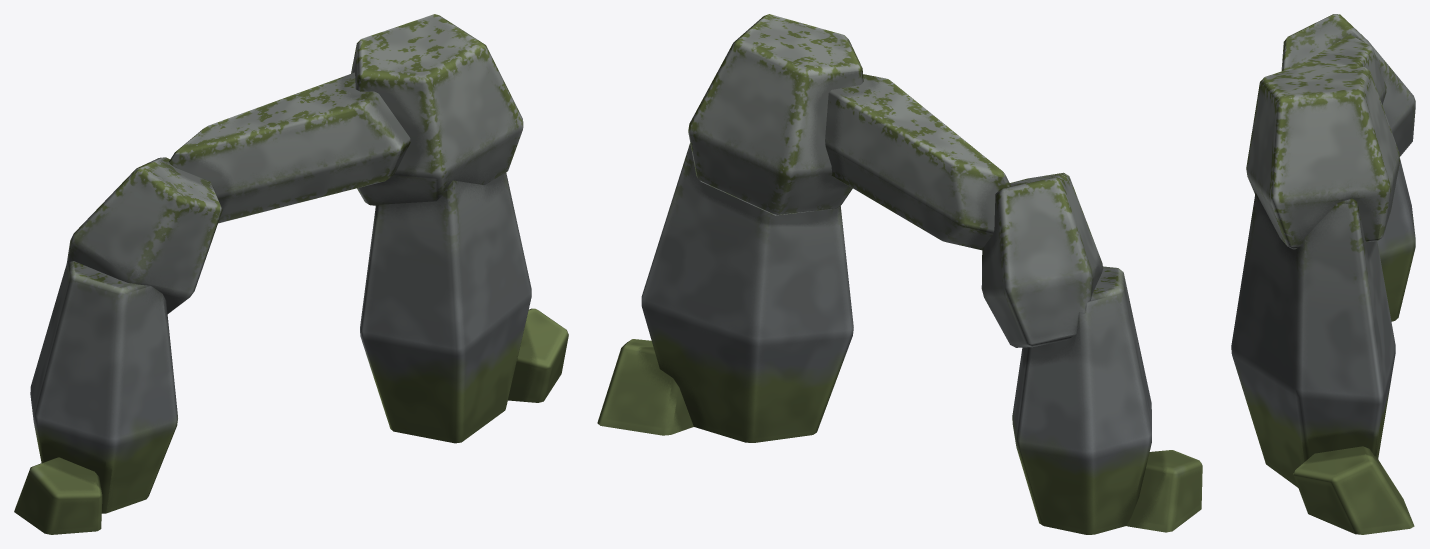
Rendered from arch_3_mossy.glb.
3 views of the same model, side by side, from view 1: azimuth 30°, elevation 25°; view 2: azimuth 150°, elevation 25°; view 3: azimuth 270°, elevation 25° (orthographic).
Parts seen in each view (by area): view 1: arch_3_mossy; view 2: arch_3_mossy; view 3: arch_3_mossy.
Part boxes in pixels (left/top/right/bottom): arch_3_mossy: left=14, top=14, right=568, bottom=534; arch_3_mossy: left=597, top=14, right=1202, bottom=534; arch_3_mossy: left=1231, top=14, right=1415, bottom=534.
Bounding box in the file's own units: 5.8 × 3.9 × 1.7.
Materials: 1 (1 with a texture image).
